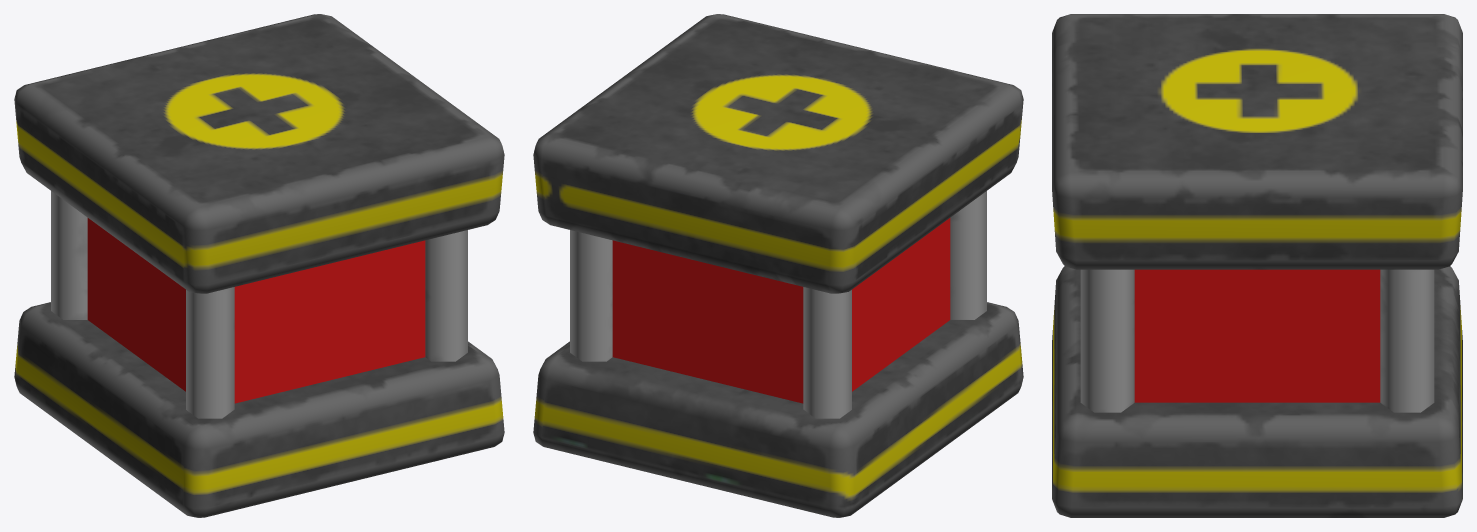
File: Pickup_Red.fbx
The picture shows the model from 3 angles, left to right: view 1: azimuth 30°, elevation 25°; view 2: azimuth 150°, elevation 25°; view 3: azimuth 270°, elevation 25°; orthographic projection. The views are drawn at different scales.
Parts seen in each view (by area): view 1: PickupC; view 2: PickupC; view 3: PickupC.
Boxes of the visible parts, x1,y1,x2,y2 form: PickupC: (14, 14, 504, 517); PickupC: (533, 14, 1023, 517); PickupC: (1052, 14, 1462, 517).
Size of the model in its own units: 56.04 by 56.04 by 51.91.
Materials: 1 (1 with a texture image).
